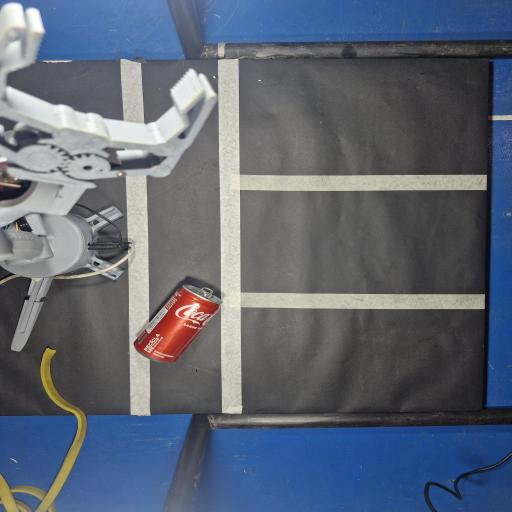lata: (134, 286, 221, 362)
